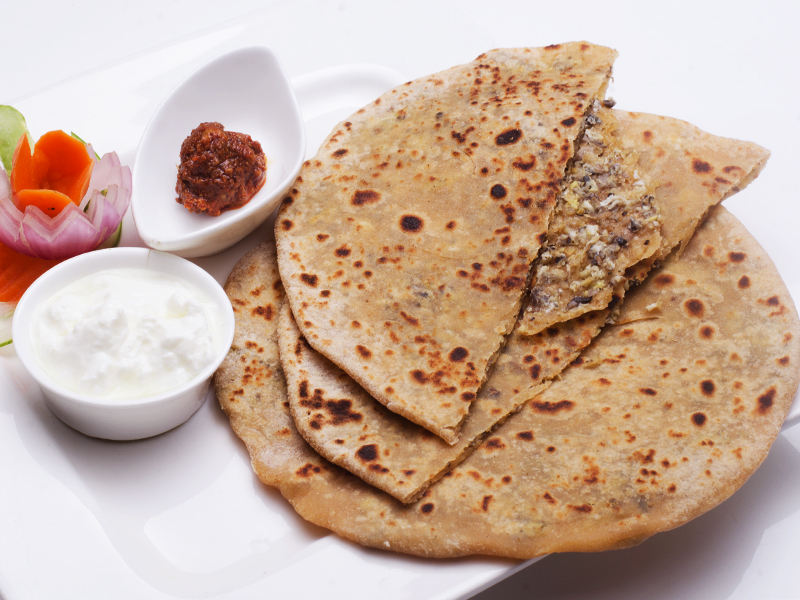aloo_paratha: (211, 38, 798, 566)
